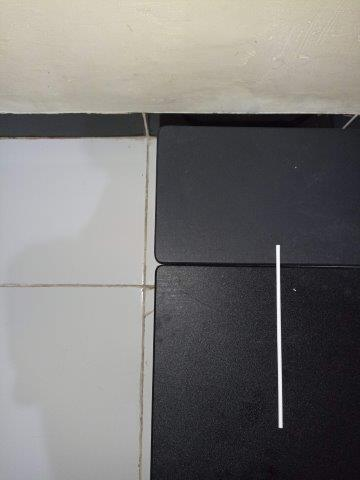sedotan: (276, 245, 283, 428)
